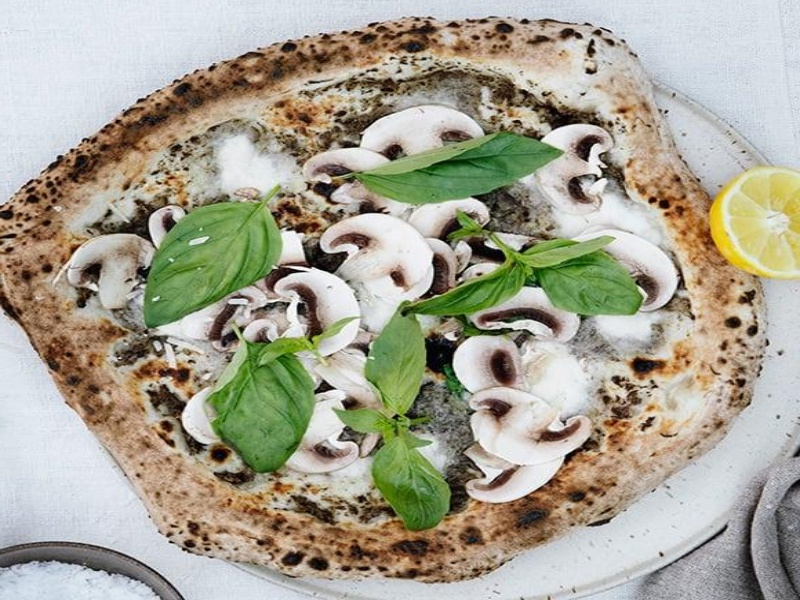champignon: (448, 399, 607, 468), (261, 257, 361, 365), (319, 209, 432, 302), (466, 274, 588, 353), (354, 96, 490, 166), (535, 112, 619, 217), (62, 231, 164, 316), (605, 228, 690, 318), (450, 327, 538, 400), (301, 389, 371, 475)
